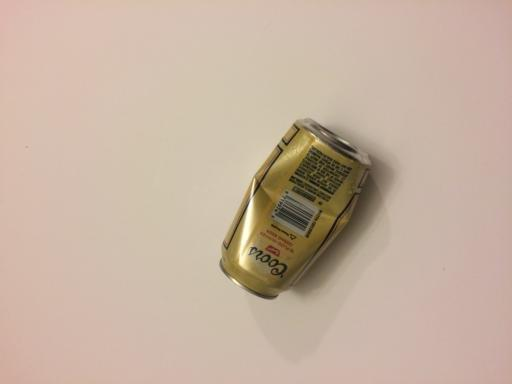kaleng: (222, 119, 371, 297)
